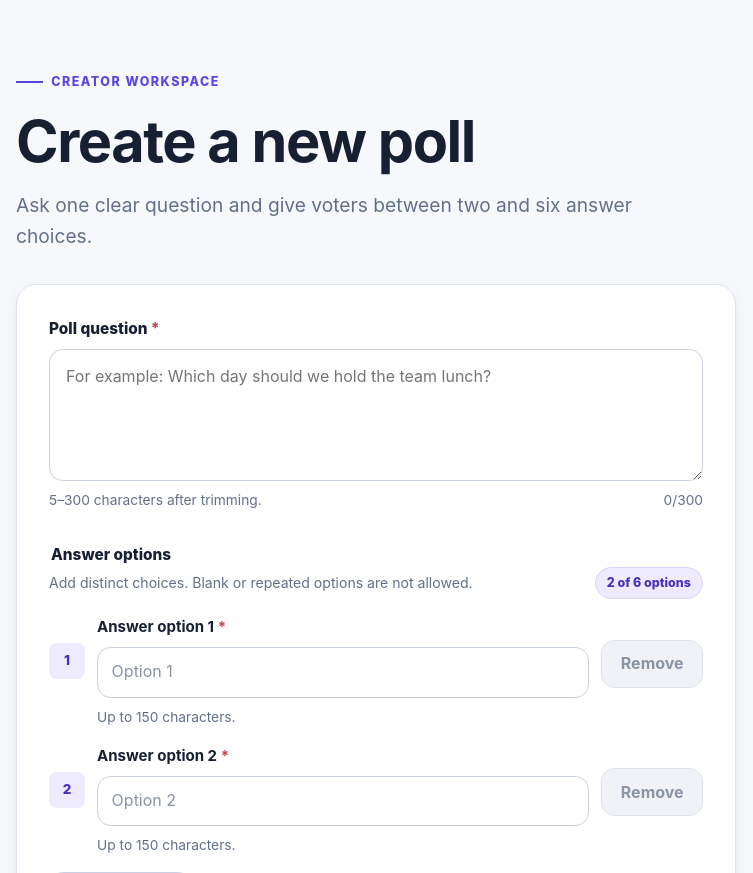
CreatePollView › associates backend validation errors with their fields
The image size is (753, 873).
Step 1. Type "Which day works best?" into the text box with test id "question-input" → (376, 415), box [49,349,703,481]
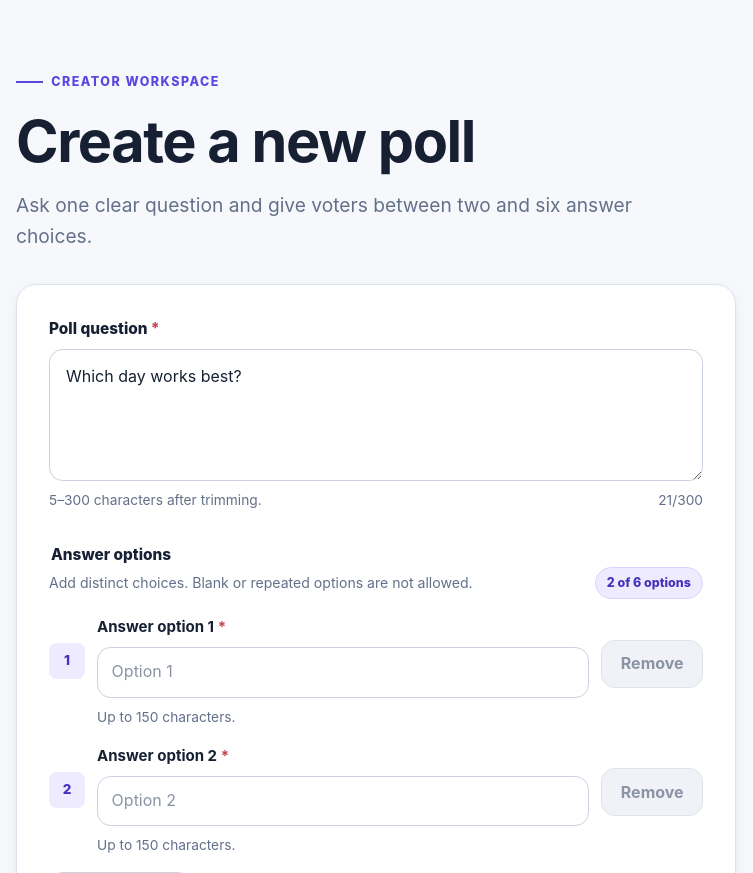
Step 2. Type "Monday" into the field with test id "option-input" showing "Answer option 1 *" → (343, 672), box [97,647,589,698]
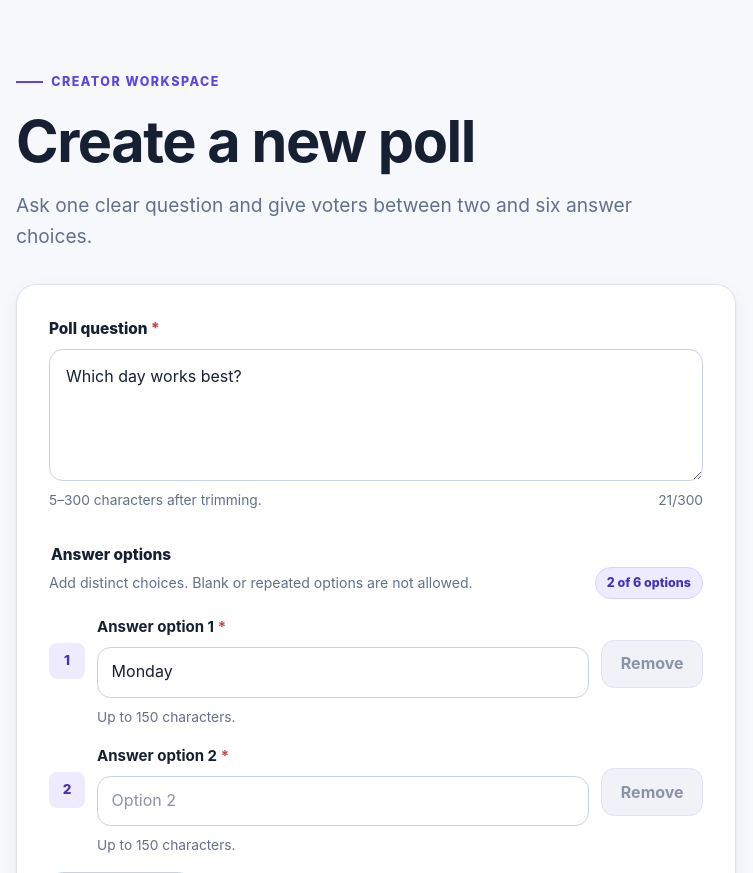
Step 3. Type "Tuesday" into the field with test id "option-input" showing "Answer option 2 *" → (343, 801), box [97,776,589,826]
(page scrolled)
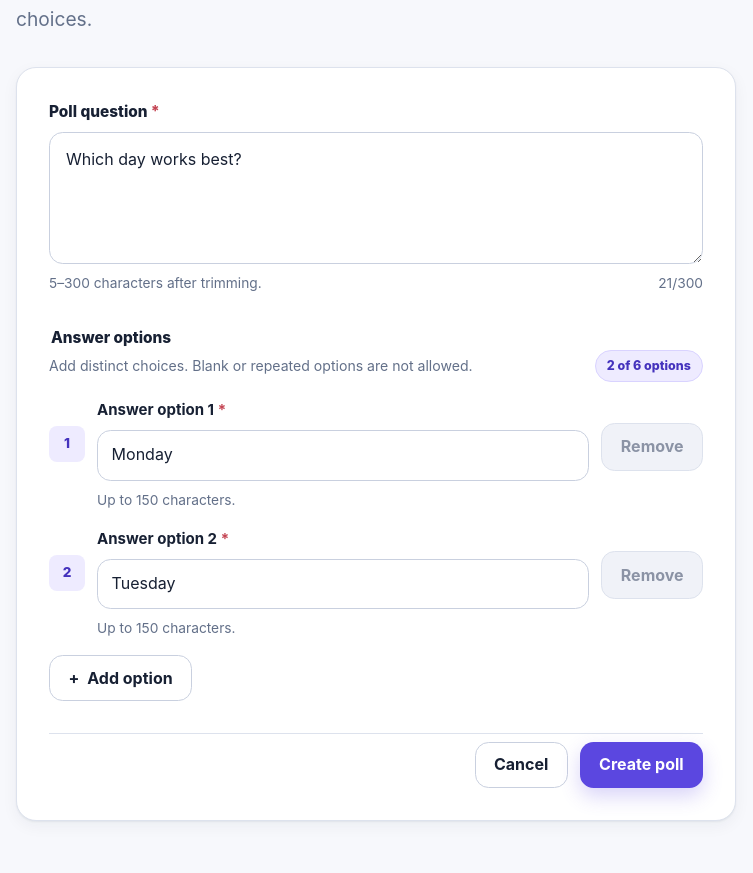
Step 4. Submit the form
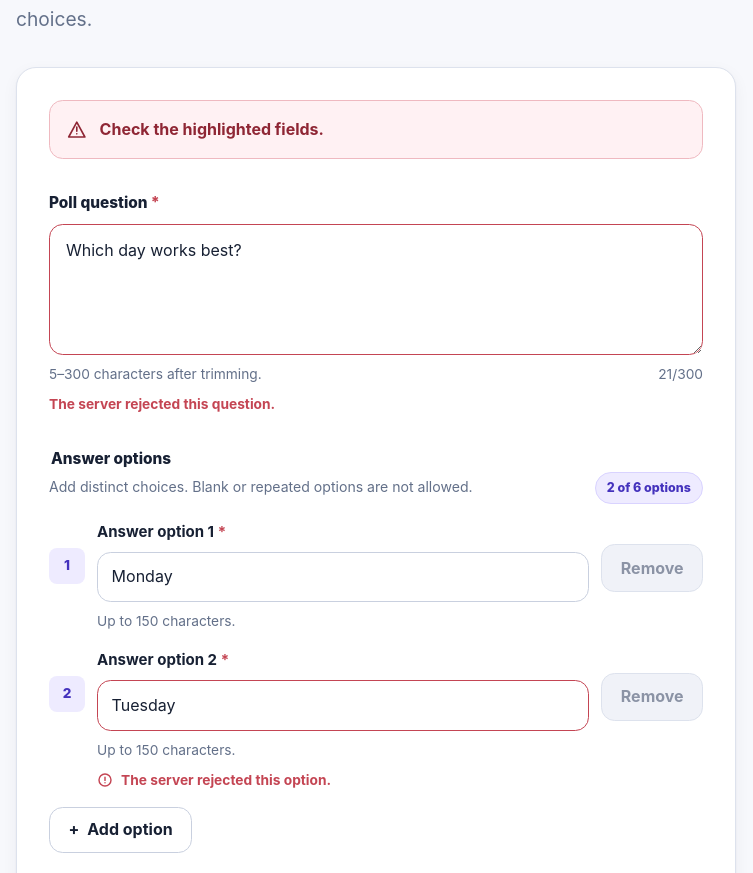
Expected: the message "The server rejected this question." is shown, [49,396,275,412]
Expected: the message with class "input-field__error" reads "The server rejected this option.", [121,772,331,788]
